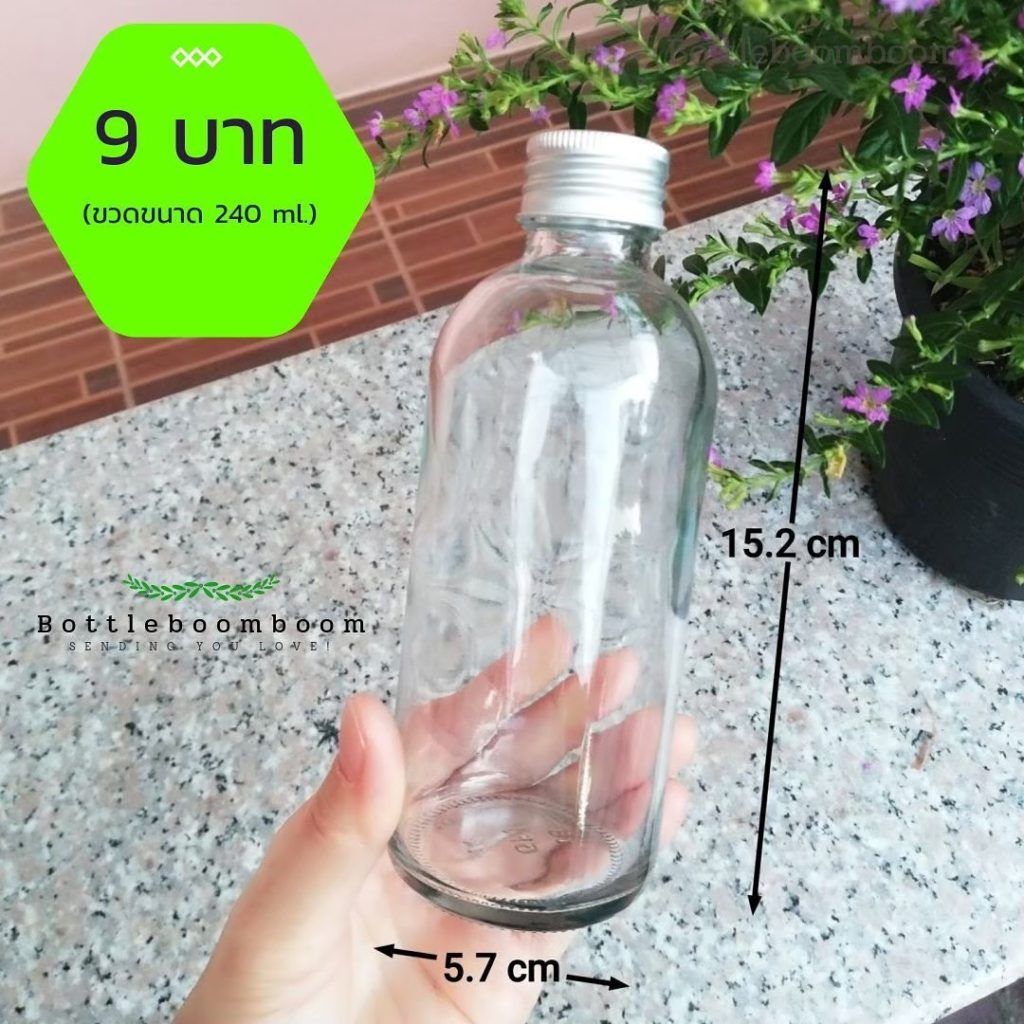glass_bottle: (386, 114, 726, 935)
